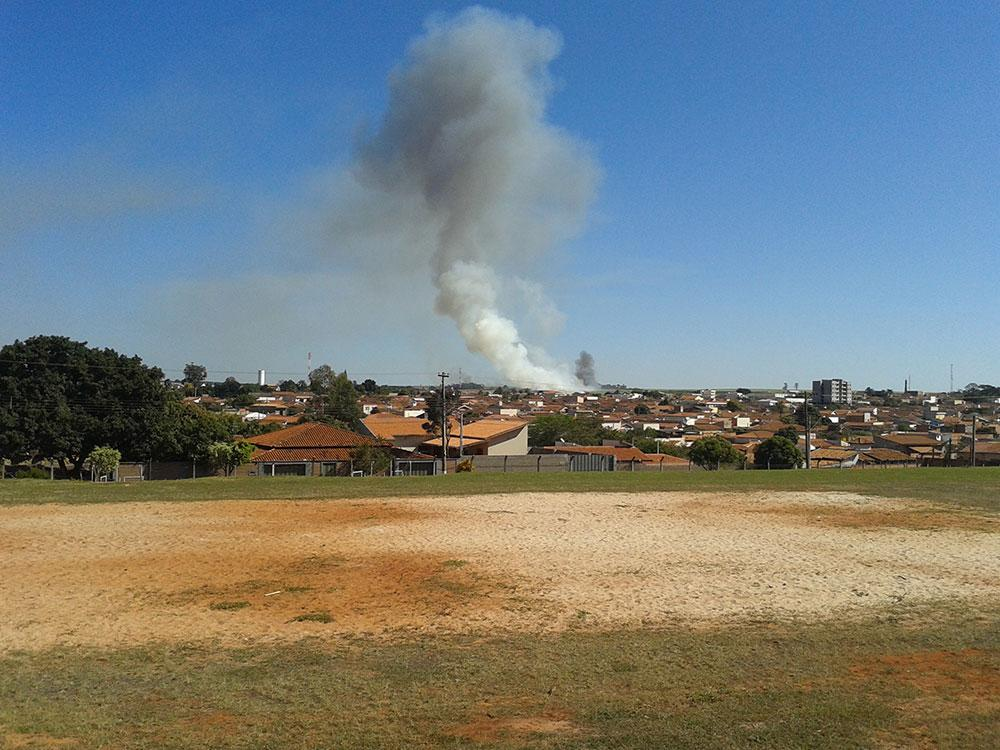smoke: (412, 60, 542, 198)
